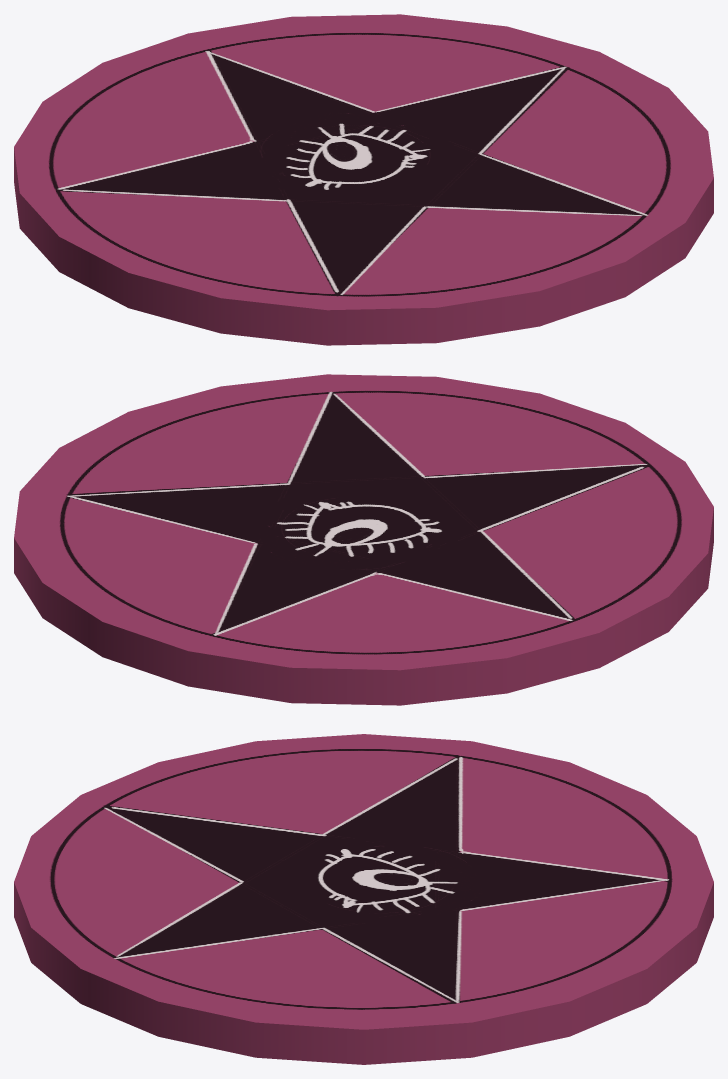
File: rug eye.fbx
3 renders of one model, top to bottom at view 1: azimuth 30°, elevation 25°; view 2: azimuth 150°, elevation 25°; view 3: azimuth 270°, elevation 25°, orthographic.
Parts seen in each view (by area): view 1: rug_finished; view 2: rug_finished; view 3: rug_finished.
Part boxes in pixels (box(x1,y1,x2,y2)): rug_finished: box(14, 14, 713, 345); rug_finished: box(14, 374, 713, 705); rug_finished: box(14, 734, 713, 1064).
Bounding box in the file's own units: 309 × 17.1 × 309.
